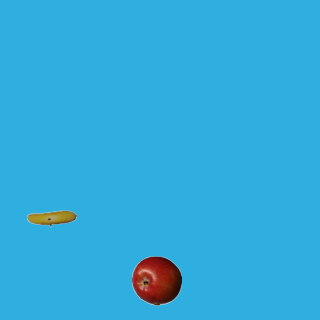Apple Braeburn: (131, 255, 181, 305)
Banana: (26, 193, 76, 243)
